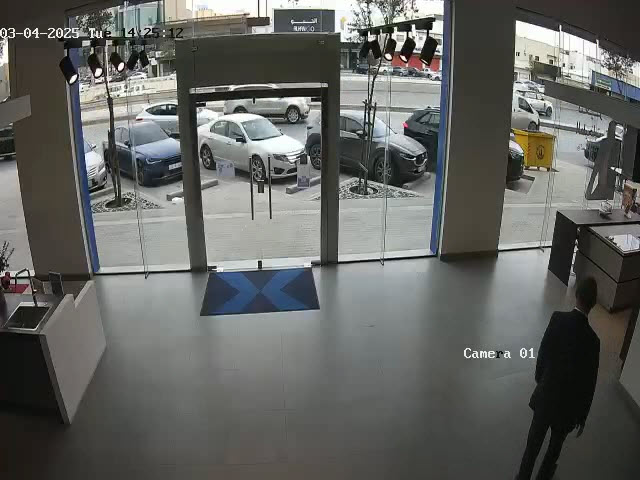employee: (514, 277, 601, 480)
